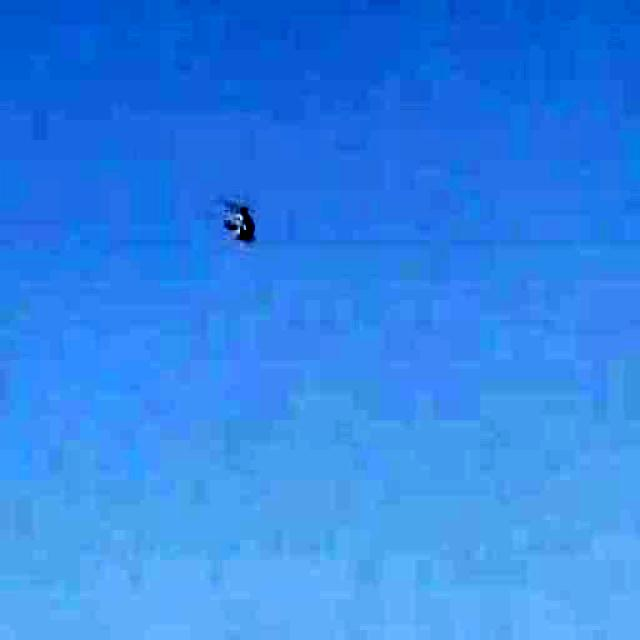drone: (195, 176, 295, 260)
